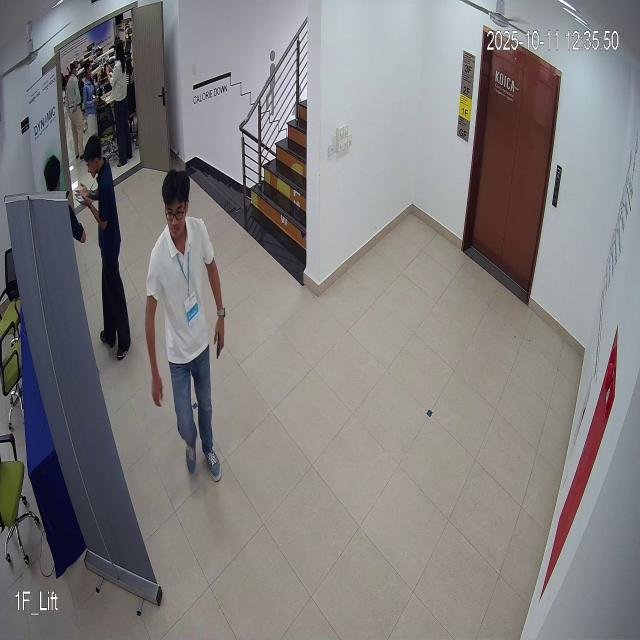face: (160, 162, 190, 245)
